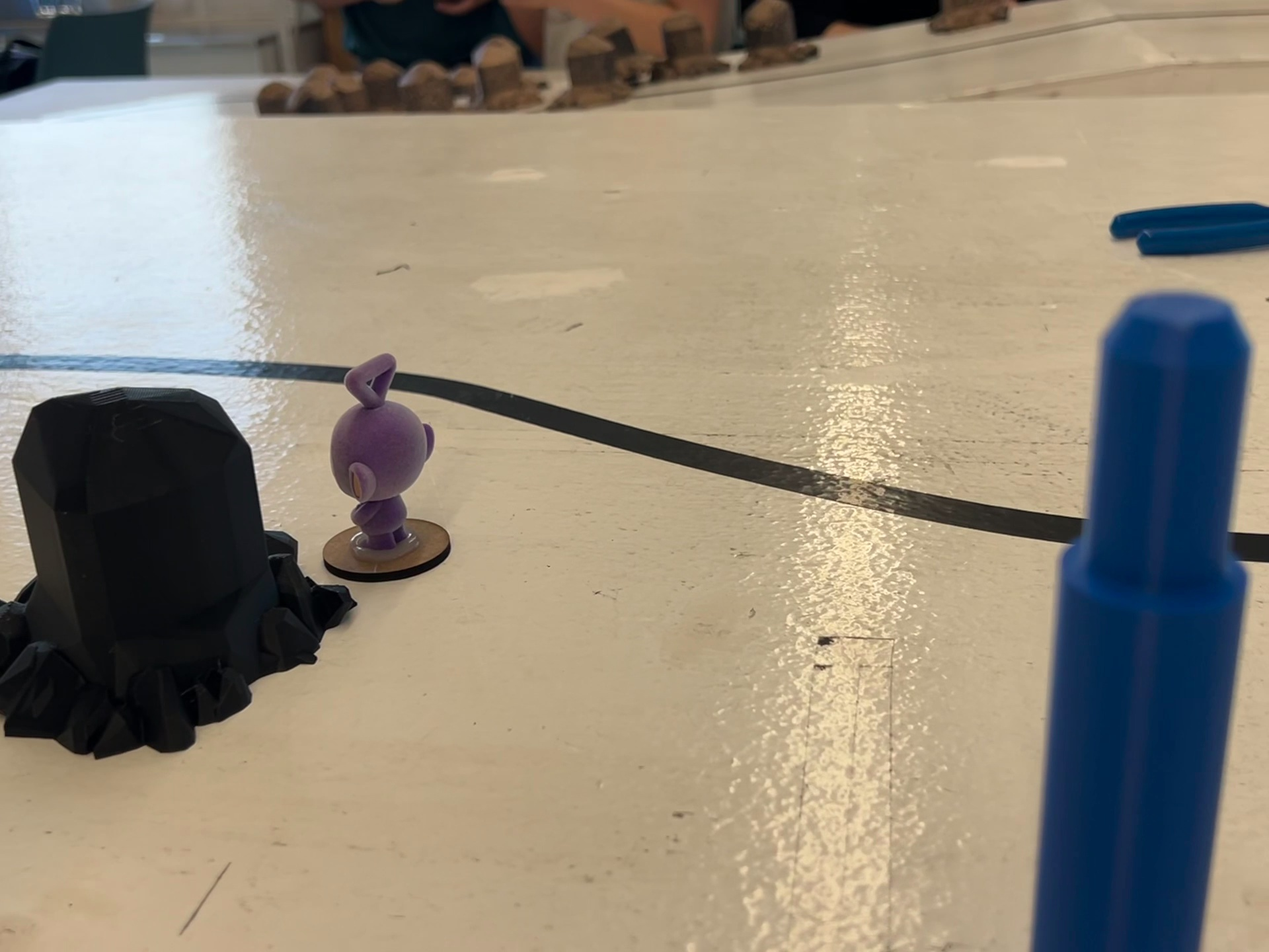teletubby: (331, 354, 435, 552)
